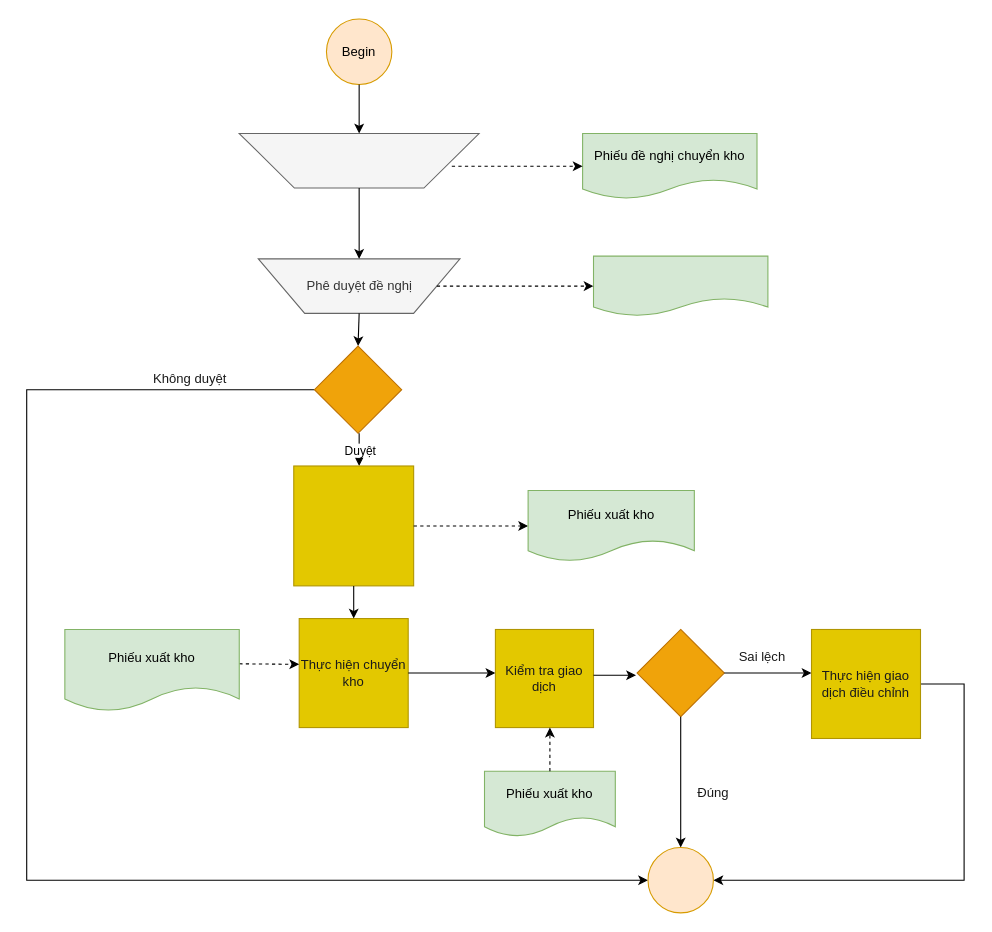
Some shapes in this 992 by 932 pixel diagram are drawn without their labels. The box of each missing label's shape, as (x1, y1, x2, y2) in pixels:
End: (647, 846, 713, 913)
Lập giao dịch và in phiếu xuất kho: (293, 465, 414, 586)
Lập yêu cầu chuyển kho: (238, 132, 479, 188)
Phiếu đề nghị chuyển kho được phê duyệt: (592, 255, 768, 316)
